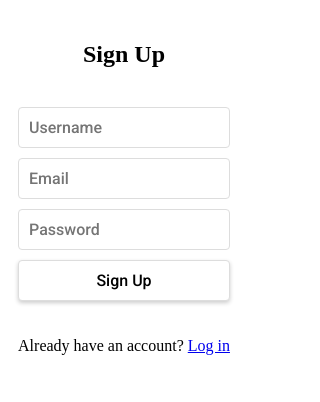
Test case: Register › shows error for existing email
Step 1. Type "testuser" into the field with placeholder "Username" → (124, 128), box [18,107,230,148]
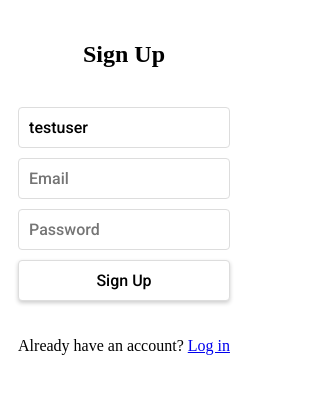
Step 2. Type "test@example.com" into the field with placeholder "Email" → (124, 179), box [18,158,230,199]
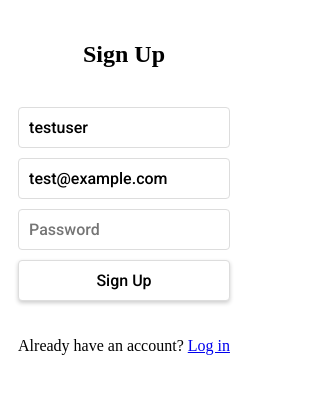
Step 3. Type "password123" into the password field with placeholder "Password" → (124, 230), box [18,209,230,250]
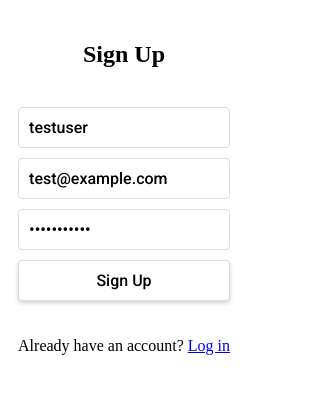
Step 4. Click the button "Sign Up" → (124, 281), box [18,260,230,301]
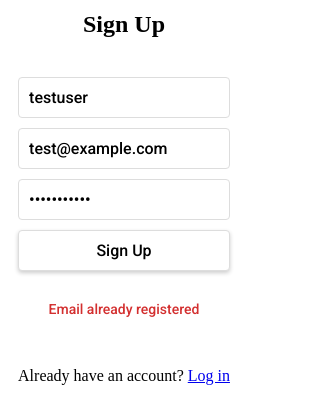
Expected: the text "Email already registered" is shown, [49,301,200,317]
